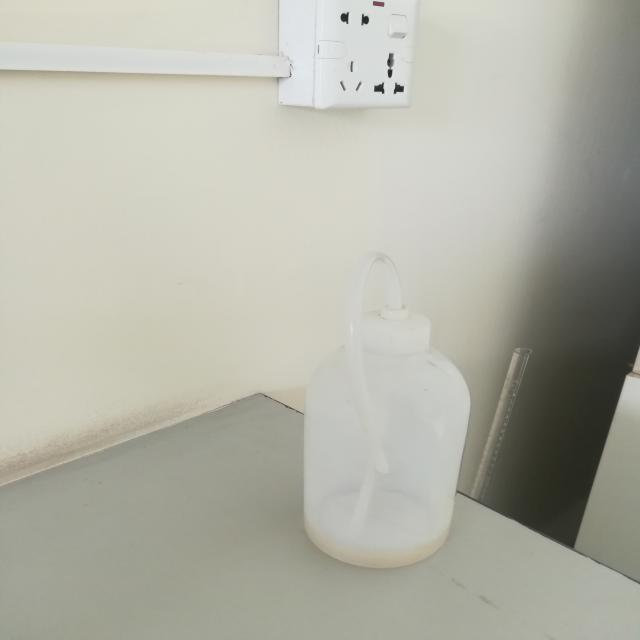Wash_Bottle: (269, 222, 499, 588)
